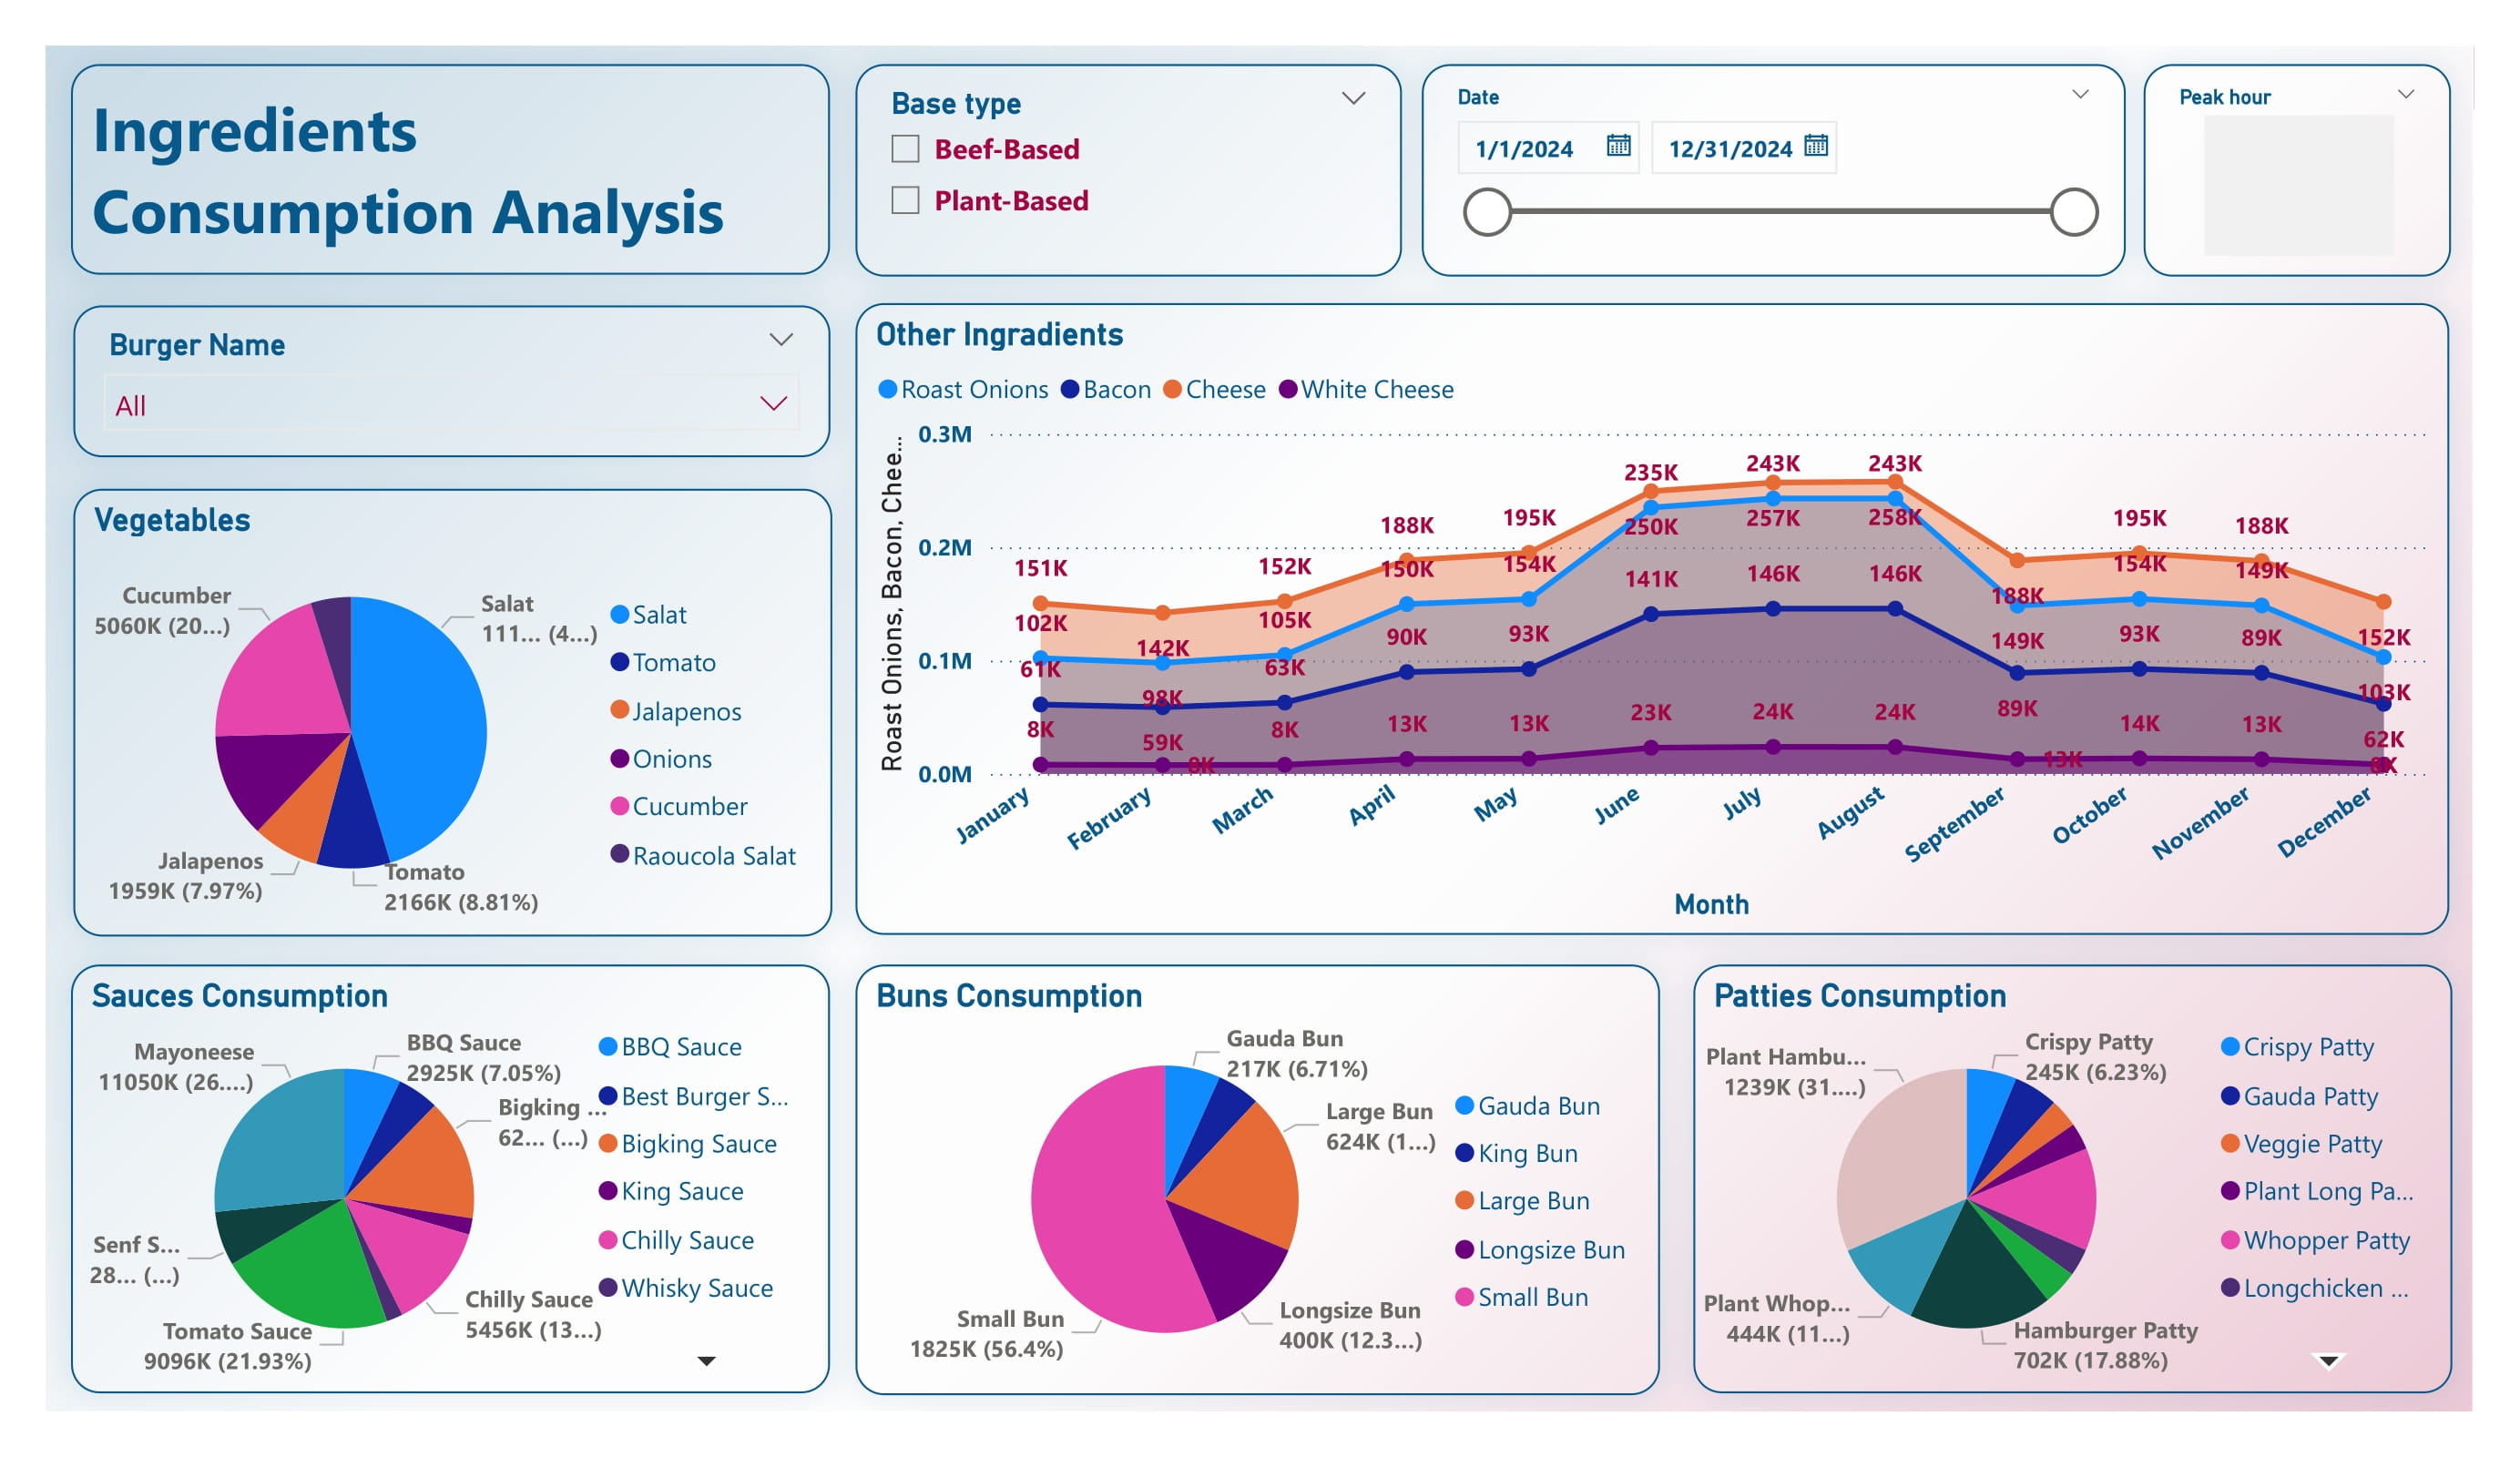

Layout of this report page (visuals, bound fields, positions):
{"tool":"powerbi","page":{"name":"Ingradients Consumption Ananlaysis","canvas":[1280,720],"ordinal":1},"visuals":[{"type":"pieChart","title":"Buns Consumption","fields":{"Y":["Sum(Burger sales  data.Gauda Bun)","Sum(Burger sales  data.King Bun (1))","Sum(Burger sales  data.Large Bun)","Sum(Burger sales  data.Longsize Bun)","Sum(Burger sales  data.Small Bun)"]},"box":[427.4,484.1,424.2,226.6],"z":0},{"type":"pieChart","title":"Sauces  Consumption","fields":{"Y":["Sum(Burger sales  data.BBQ Sauce (10g))","Sum(Burger sales  data.Best Burger Sauce (10g))","Burger sales  data.big kingsauce","Sum(Burger sales  data.King Sauce (10g))","Sum(Burger sales  data.Chilly Sauce (20g))","Sum(Burger sales  data.Whisky Sauce (10g))","Burger sales  data.ketchup","Sum(Burger sales  data.Senf (5g))","Burger sales  data.Mayoneese"]},"box":[14,484,400,226],"z":1000},{"type":"pieChart","title":"Patties  Consumption","fields":{"Y":["Sum(Burger sales  data.Crispy Patty)","Sum(Burger sales  data.Gauda Patty)","Sum(Burger sales  data.Veggie Patty)","Sum(Burger sales  data.Plant Long Patty)","Burger sales  data.Whopper Patty","Sum(Burger sales  data.Longchicken Patty)","Sum(Burger sales  data.Huge Patty (1))","Burger sales  data.Hamburger Patty","Burger sales  data.Plant Whopper","Burger sales  data.Plant Hamburger"]},"box":[868,484,400,226],"z":2000},{"type":"lineChart","title":"Other Ingradients","fields":{"Y":["Sum(Burger sales  data.Roast (5g))","Sum(Burger sales  data.Bacon (3))","Burger sales  data.Cheese","Sum(Burger sales  data.White Cheese (2))"],"Category":["Burger sales  data.Date.Variation.Date Hierarchy.Month"]},"box":[427.4,136,840.2,333.5],"z":3000},{"type":"slicer","fields":{"Values":["Burger sales  data.Date"]},"box":[725.3,9.7,370.7,111.7],"z":4000},{"type":"slicer","fields":{"Values":["Burger sales  data.Base type"]},"box":[427.4,9.7,288.2,111.7],"z":5000},{"type":"pieChart","title":"Vegetables","fields":{"Y":["Burger sales  data.Salat","Burger sales  data.Tomato","Burger sales  data.Jalapenos","Burger sales  data.Onions","Burger sales  data.Cucumber","Sum(Burger sales  data.Raoucola Salat (7g))"]},"box":[14.6,233.1,399.9,236.4],"z":6000},{"type":"slicer","fields":{"Values":["Burger sales  data.Peak hours"]},"box":[1105.7,9.7,161.9,111.7],"z":7000},{"type":"textbox","box":[12.9,10,400,111.4],"z":8000},{"type":"slicer","fields":{"Values":["Burger sales  data.Burger Name"]},"box":[14.3,137,398.6,80],"z":9000}]}

Visuals, with their boxes in screenshot pixels (x1, y1, x2, y2):
"Buns Consumption" pieChart: x1=857, y1=964, x2=1661, y2=1394
"Sauces  Consumption" pieChart: x1=72, y1=963, x2=831, y2=1392
"Patties  Consumption" pieChart: x1=1693, y1=963, x2=2452, y2=1392
"Other Ingradients" lineChart: x1=857, y1=303, x2=2451, y2=936
slicer - Burger sales  data.Date: x1=1422, y1=64, x2=2126, y2=276
slicer - Burger sales  data.Base type: x1=857, y1=64, x2=1403, y2=276
"Vegetables" pieChart: x1=73, y1=488, x2=832, y2=936
slicer - Burger sales  data.Peak hours: x1=2144, y1=64, x2=2451, y2=276
textbox: x1=70, y1=65, x2=829, y2=276
slicer - Burger sales  data.Burger Name: x1=73, y1=305, x2=829, y2=457
